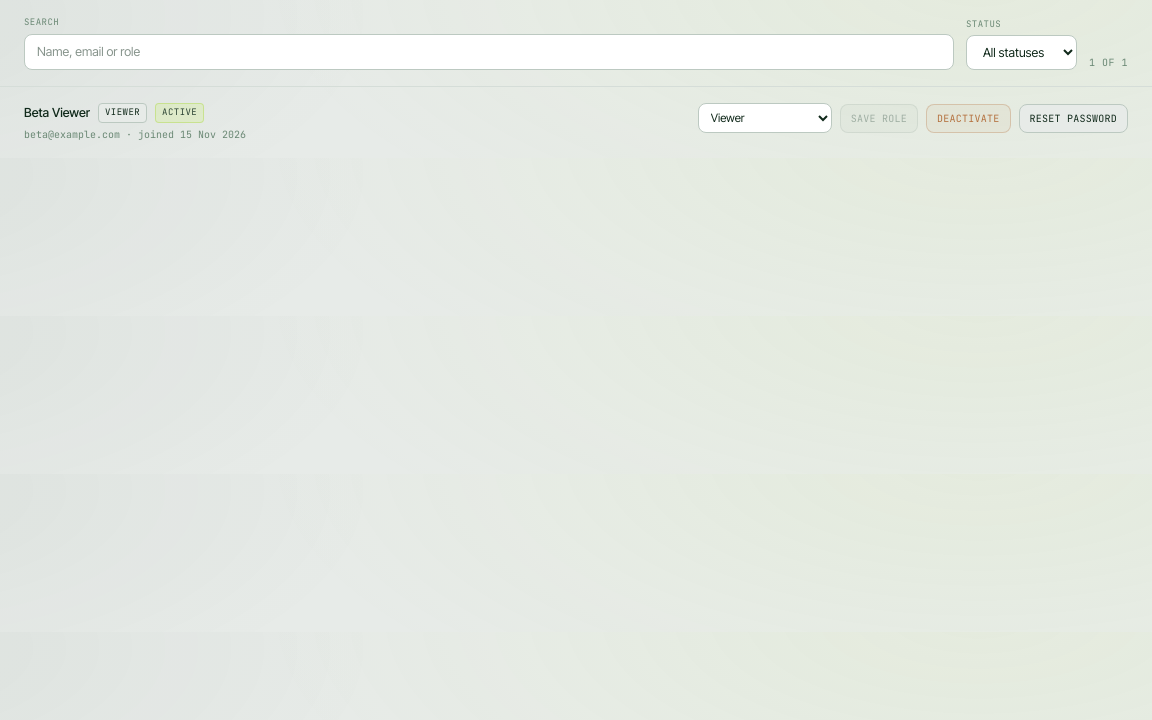
member roster › changes a role only after confirmation and shows the server result
The image size is (1152, 720).
Select "Reviewer" in the dropdown named "Role for beta@example.com" at (765, 118), box [698,103,832,133]
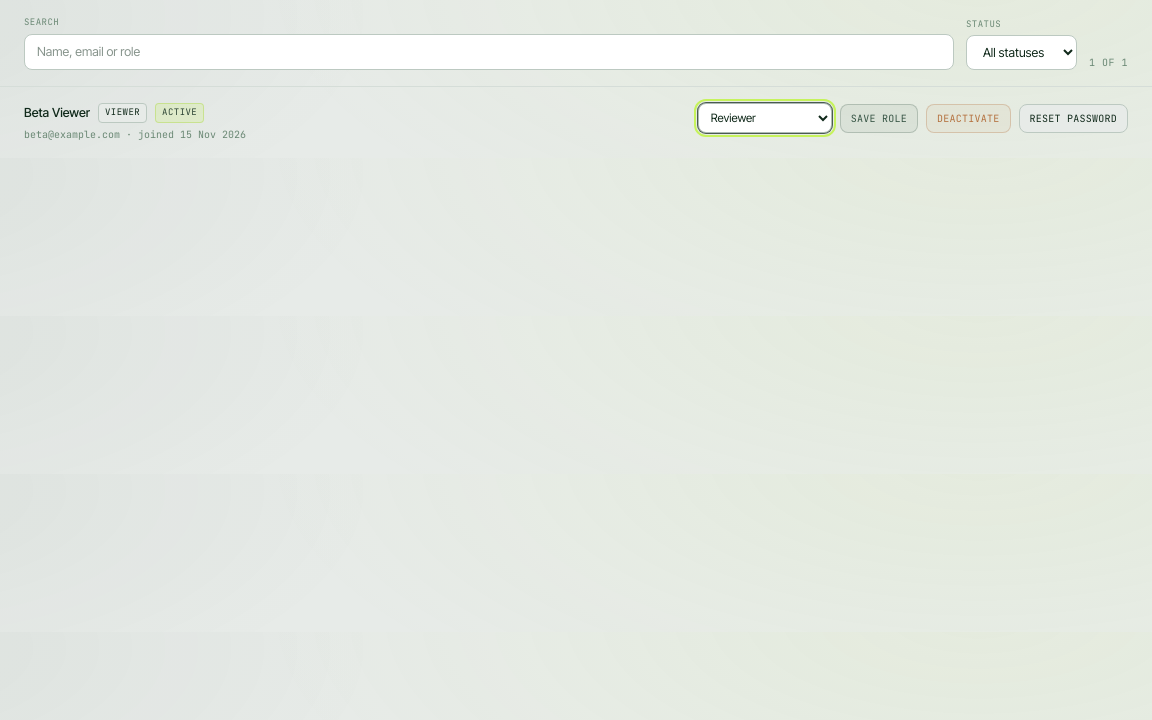
Click the button "Save role" at (879, 118), box [840,104,918,133]
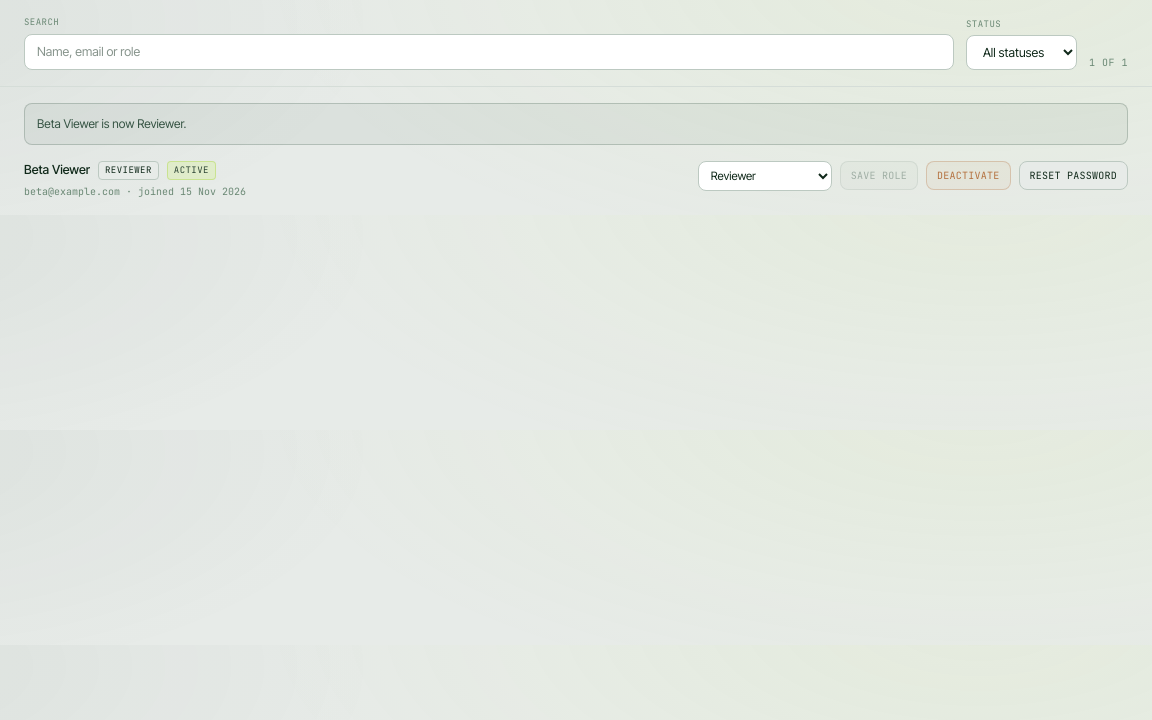
Result: the message "Beta Viewer is now Reviewer." is shown at [24,103,1128,145]
Result: the message reads "Beta Viewer is now Reviewer." at [37,116,186,131]
